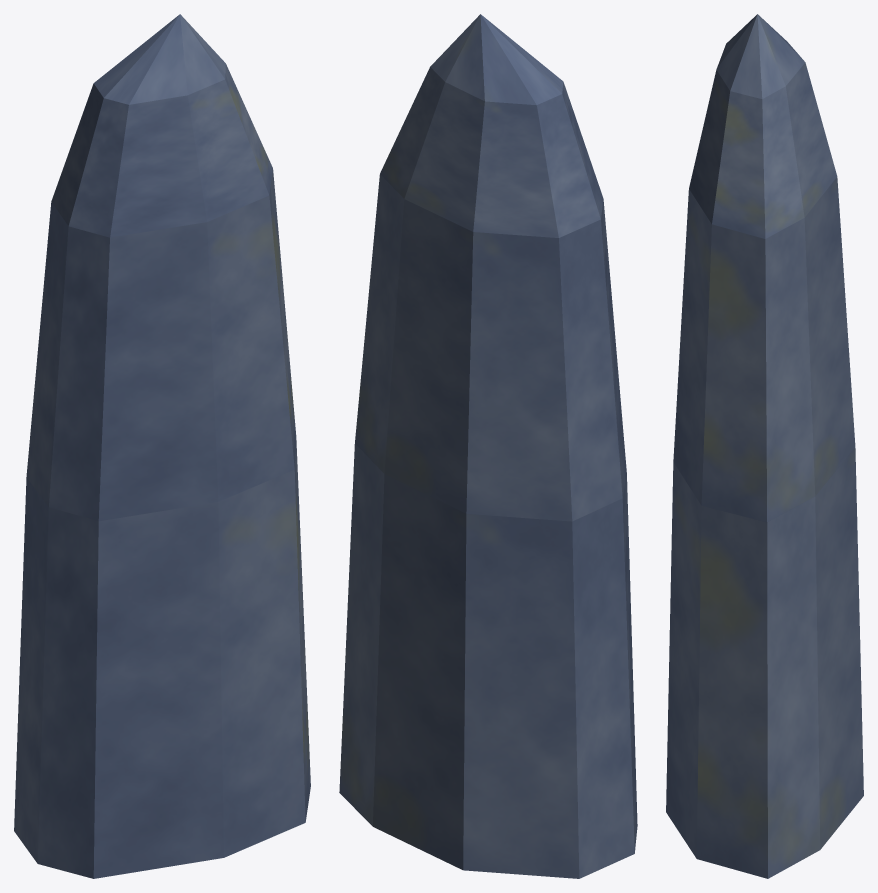
The model's file is Oracle_Menhir_1.gltf.
3 renders of one model, left to right at view 1: azimuth 30°, elevation 25°; view 2: azimuth 150°, elevation 25°; view 3: azimuth 270°, elevation 25°, orthographic.
Parts seen in each view (by area): view 1: Oracle_Menhir_1; view 2: Oracle_Menhir_1; view 3: Oracle_Menhir_1.
Boxes of the visible parts, left/top/right/bottom form: Oracle_Menhir_1: left=14, top=14, right=310, bottom=878; Oracle_Menhir_1: left=339, top=14, right=637, bottom=878; Oracle_Menhir_1: left=666, top=14, right=863, bottom=878.
Bounding box in the file's own units: 1.2 × 3.26 × 0.732.
1 material, 1 textured.
